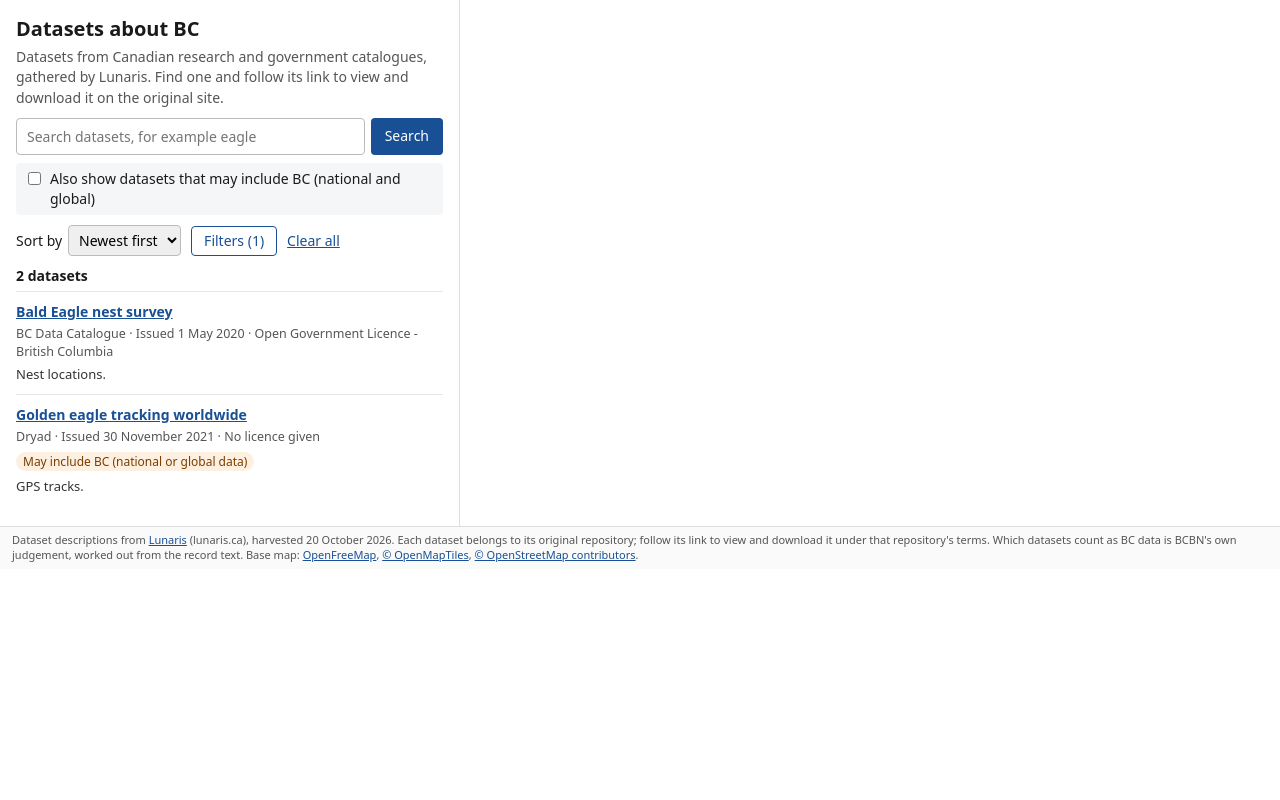
Scenario: the Datasets page › closing the panel with Cancel drops the pending changes
Click the button "Filters (1)": (234, 241) [191,226,277,256]
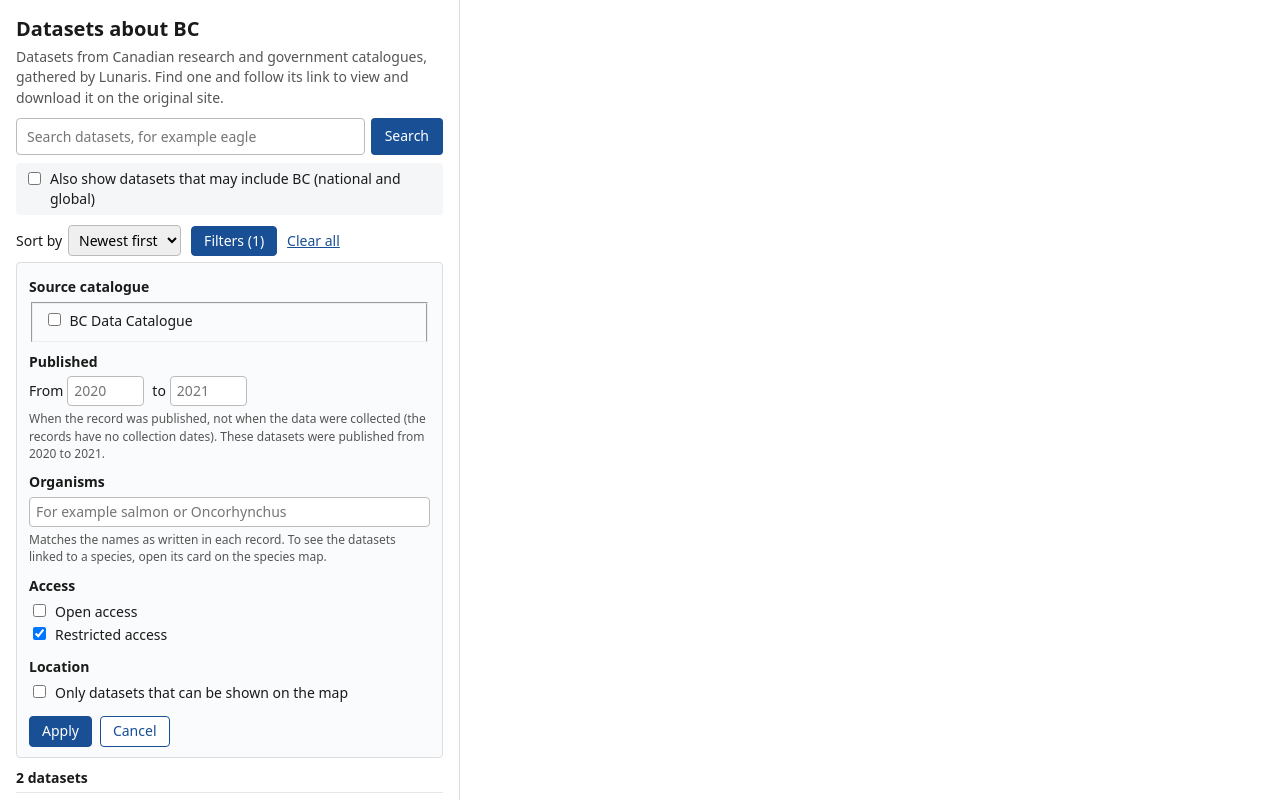
Click the checkbox labelled "Open access": (40, 611) [33,604,46,617]
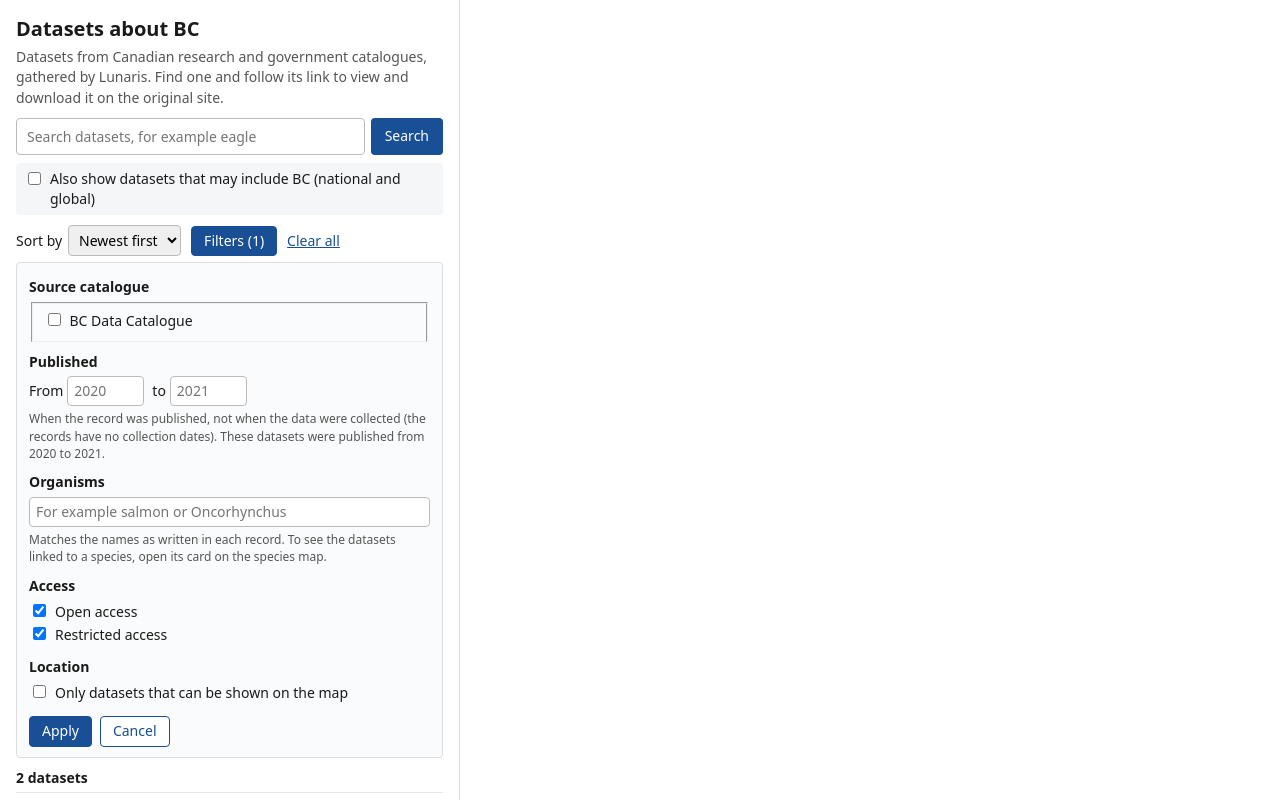
In the field named "Organism name": (230, 512) [29,497,430,527], type "salmon"
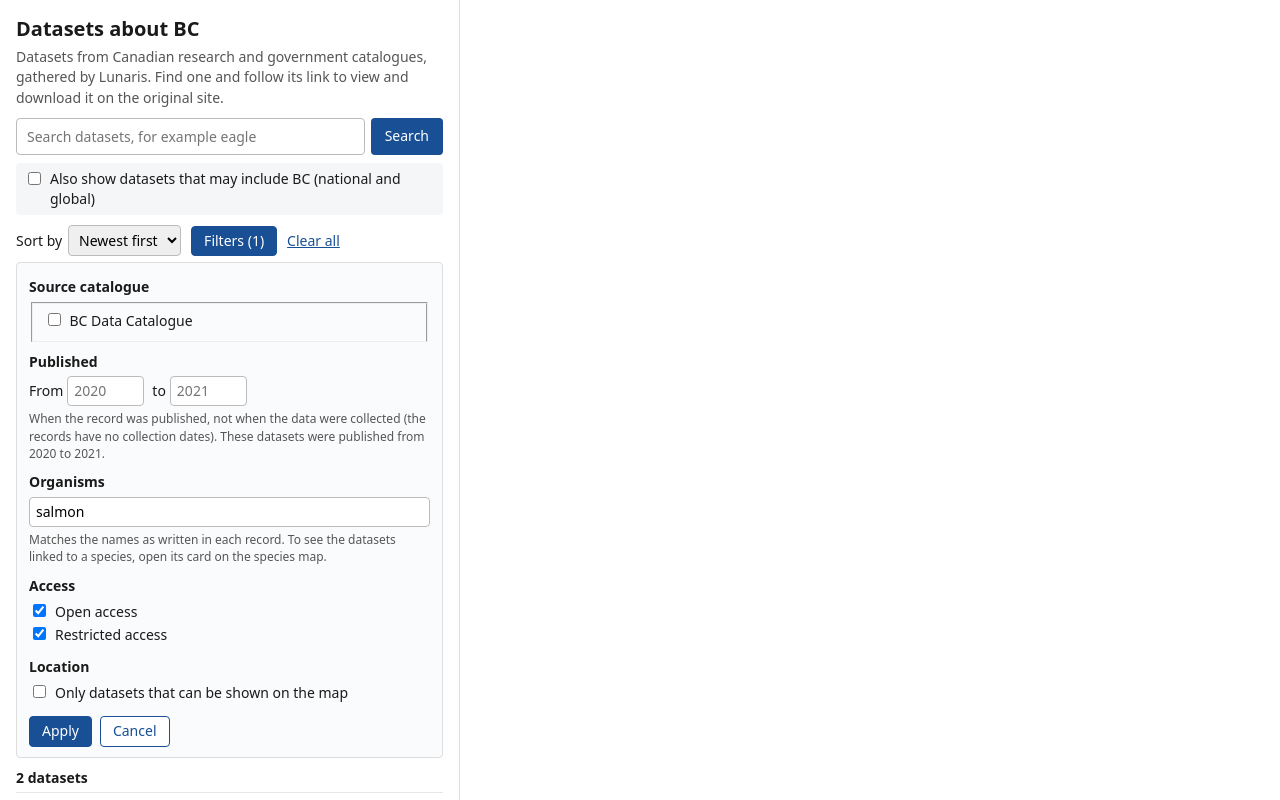
Click the button "Cancel": (135, 731) [100,716,170,747]
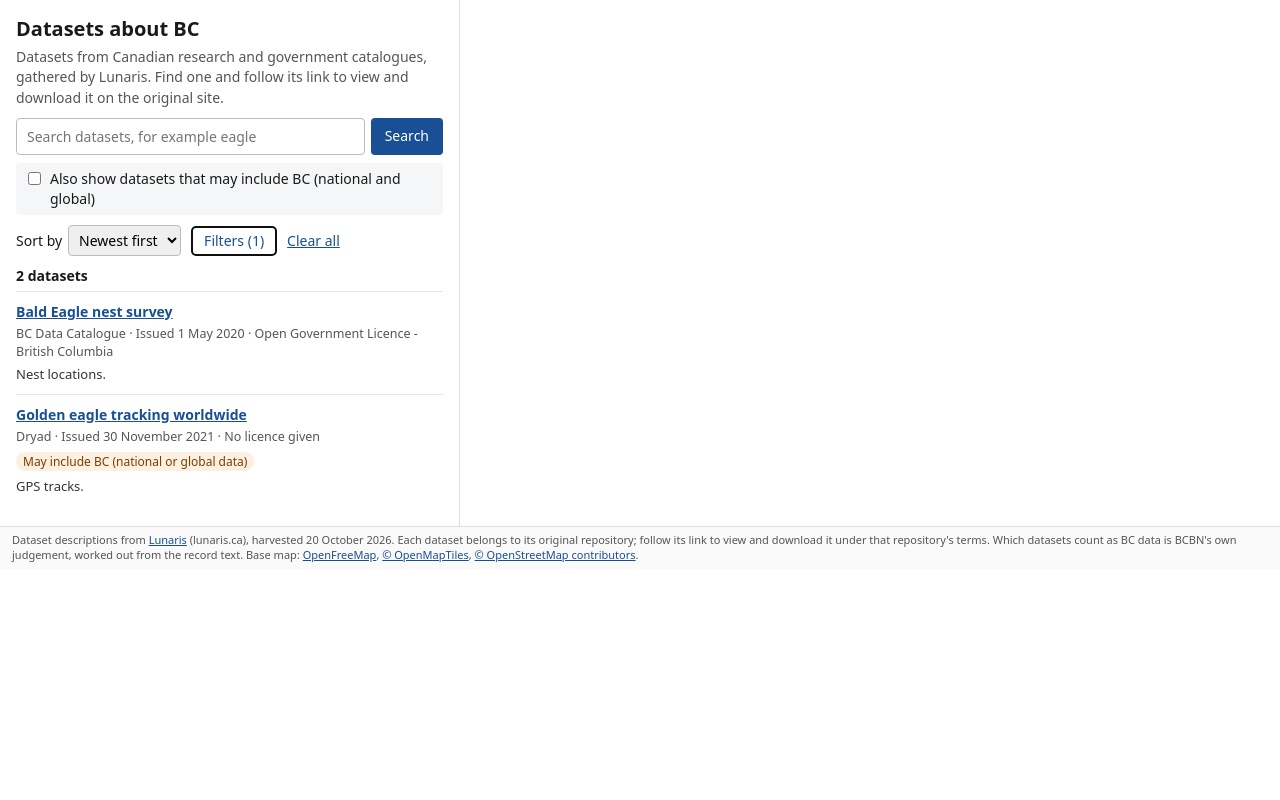
Click the button "Filters (1)": (234, 241) [191,226,277,256]
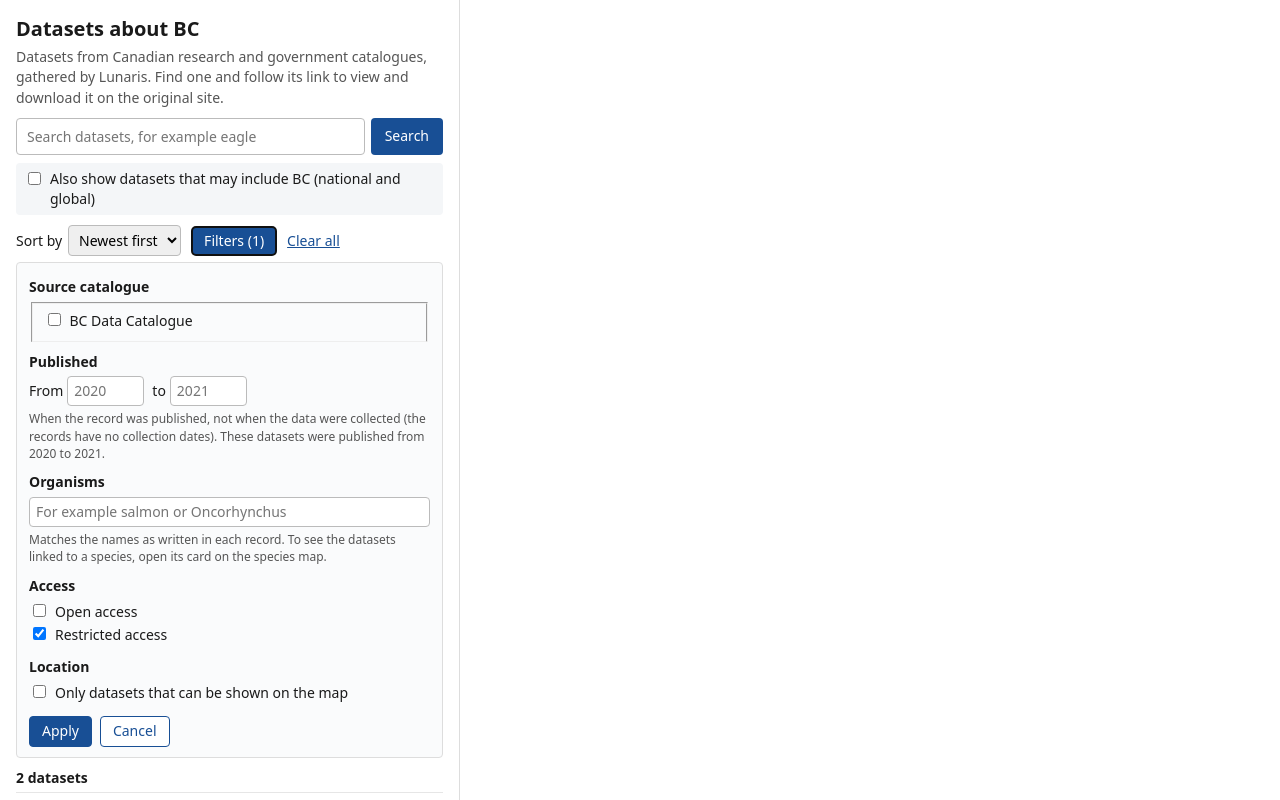
expect the checkbox labelled "Open access" is not checked: met, box [33,604,46,617]
expect the checkbox labelled "Restricted access" is checked: met, box [33,628,46,640]
expect the field named "Organism name" is empty: met, box [29,497,430,527]
